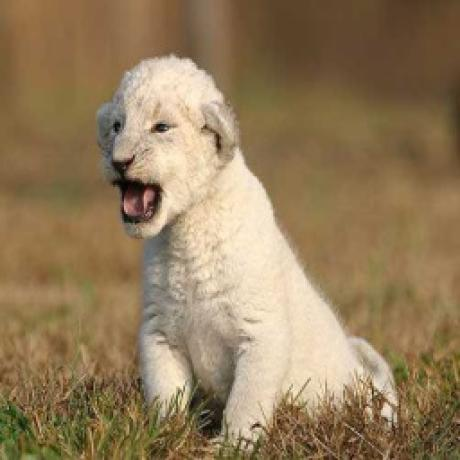Lion: (87, 47, 394, 438)
